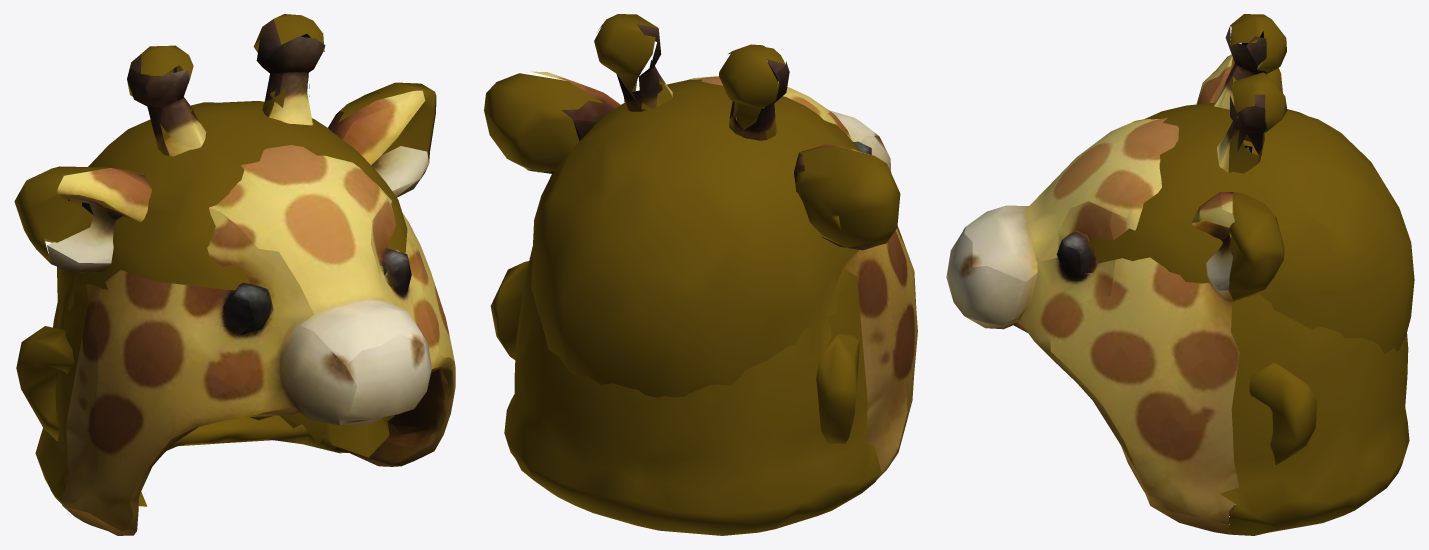
The model's file is giraffe.glb.
3 renders of one model, left to right at view 1: azimuth 30°, elevation 25°; view 2: azimuth 150°, elevation 25°; view 3: azimuth 270°, elevation 25°, orthographic. The views are drawn at different scales.
Visible parts, largest first — view 1: geometry_0, HoodAnatomicalLining; view 2: geometry_0, HoodAnatomicalLining; view 3: geometry_0, HoodAnatomicalLining.
Boxes of the visible parts, x1,y1,x2,y2 form: geometry_0: (14, 14, 455, 535); HoodAnatomicalLining: (16, 101, 407, 506); geometry_0: (484, 14, 917, 535); HoodAnatomicalLining: (490, 79, 861, 443); geometry_0: (946, 14, 1409, 535); HoodAnatomicalLining: (1089, 102, 1414, 465).
Bounding box in the file's own units: 0.516 × 0.5452 × 0.5357.
2 materials, 1 textured.
